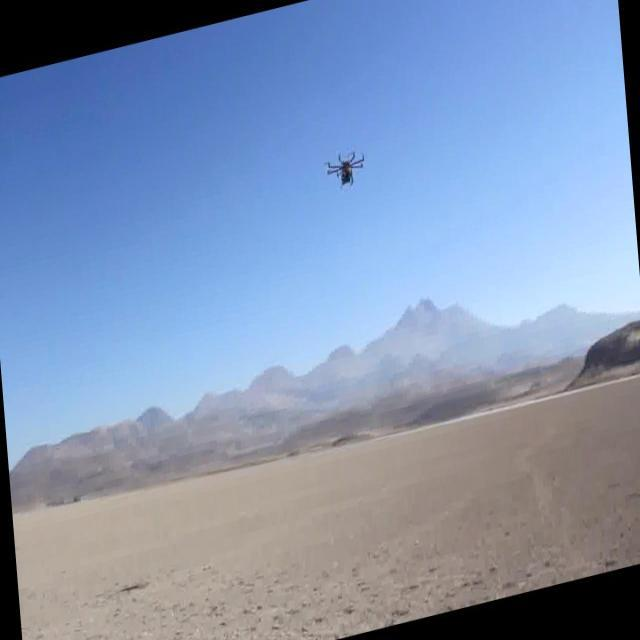drone: (324, 142, 369, 196)
